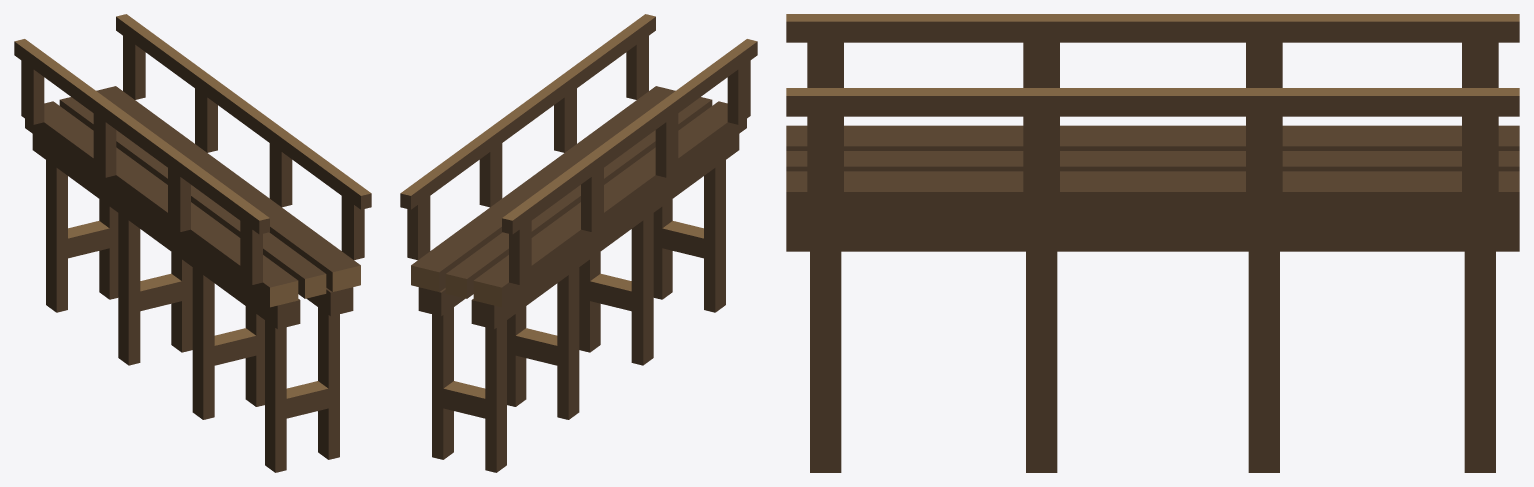
The model's file is terr_plankwalk.glb.
3 views of the same model, side by side, from view 1: azimuth 30°, elevation 25°; view 2: azimuth 150°, elevation 25°; view 3: azimuth 270°, elevation 25° (orthographic). The views are drawn at different scales.
Visible parts, largest first — view 1: terr_plankwalk; view 2: terr_plankwalk; view 3: terr_plankwalk.
Boxes of the visible parts, left/top/right/bottom form: terr_plankwalk: left=14, top=14, right=371, bottom=472; terr_plankwalk: left=400, top=14, right=757, bottom=472; terr_plankwalk: left=786, top=14, right=1519, bottom=472.
Size of the model in its own units: 0.296 by 0.665 by 1.12.
Materials: 1 (1 with a texture image).
